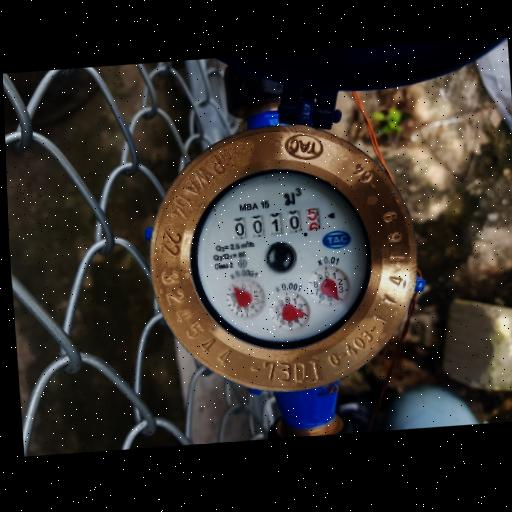0: (249, 214, 264, 237), (287, 210, 301, 233), (232, 218, 247, 239)
1: (269, 212, 283, 235)
5: (306, 208, 319, 230)
border_water_meter_number: (230, 205, 322, 242)
